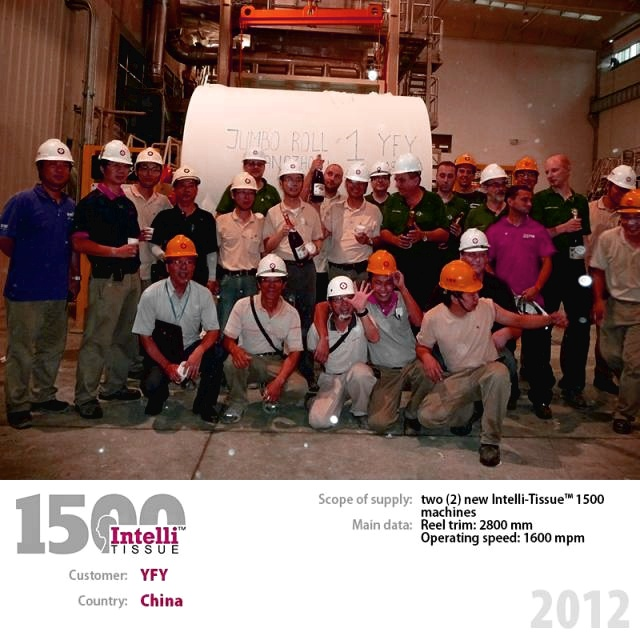Con_Casco: (34, 137, 76, 190), (366, 249, 398, 303), (166, 233, 198, 284), (98, 140, 130, 186)
Sin_Casco_Mascarrilla: (543, 154, 571, 190), (508, 185, 534, 218)
